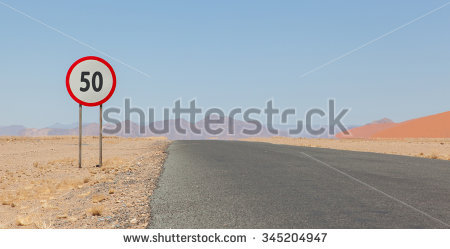Speed_limit_50km: (64, 56, 121, 107)
